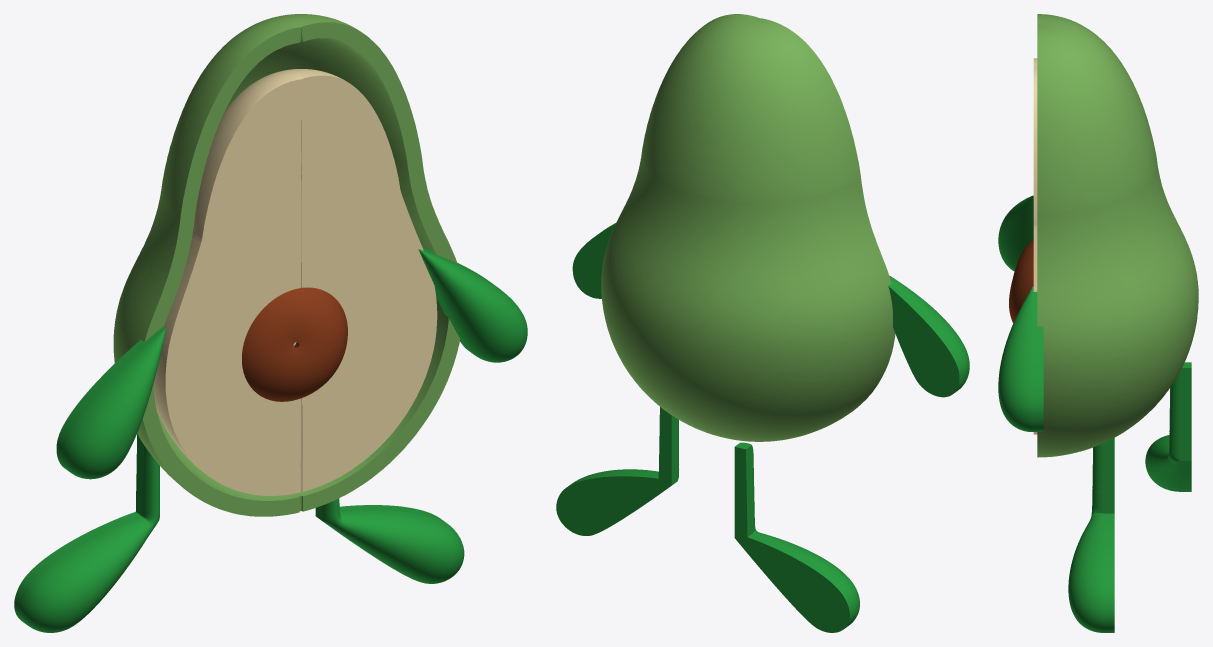
3 renders of one model, left to right at view 1: azimuth 30°, elevation 25°; view 2: azimuth 150°, elevation 25°; view 3: azimuth 270°, elevation 25°, orthographic. The views are drawn at different scales.
Visible parts, largest first — view 1: groupNumber_0 6, groupNumber_0, groupNumber_0 18, groupNumber_0 2, groupNumber_0 16, groupNumber_0 17, groupNumber_0 15; view 2: groupNumber_0, groupNumber_0 18, groupNumber_0 17, groupNumber_0 16, groupNumber_0 15; view 3: groupNumber_0, groupNumber_0 17, groupNumber_0 15, groupNumber_0 18, groupNumber_0 16, groupNumber_0 2, groupNumber_0 6.
Part boxes in pixels (x1,y1,x2,y2): groupNumber_0 6: (153, 69, 437, 495); groupNumber_0: (113, 14, 460, 516); groupNumber_0 18: (14, 433, 159, 632); groupNumber_0 2: (242, 287, 347, 401); groupNumber_0 16: (56, 326, 165, 479); groupNumber_0 17: (315, 498, 464, 583); groupNumber_0 15: (418, 248, 527, 362); groupNumber_0: (601, 14, 895, 441); groupNumber_0 18: (734, 442, 859, 632); groupNumber_0 17: (556, 407, 678, 535); groupNumber_0 16: (888, 275, 969, 397); groupNumber_0 15: (572, 223, 615, 298); groupNumber_0: (1037, 14, 1198, 457); groupNumber_0 17: (1068, 437, 1114, 632); groupNumber_0 15: (998, 286, 1043, 431); groupNumber_0 18: (1145, 362, 1191, 491); groupNumber_0 16: (998, 195, 1033, 271); groupNumber_0 2: (1009, 239, 1033, 322); groupNumber_0 6: (1033, 58, 1037, 434).
Size of the model in its own units: 4.07 by 5.27 by 1.79.
